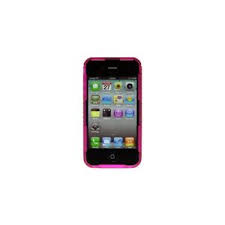iphone4: (81, 52, 145, 171)
